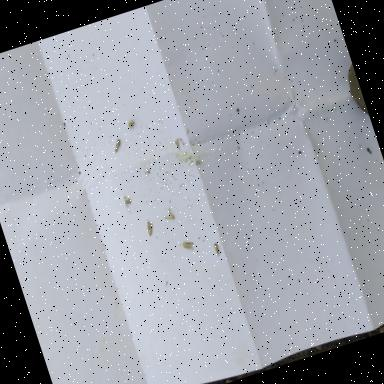pbw: (144, 219, 156, 236), (111, 138, 124, 153), (181, 239, 195, 252), (213, 242, 220, 257)
